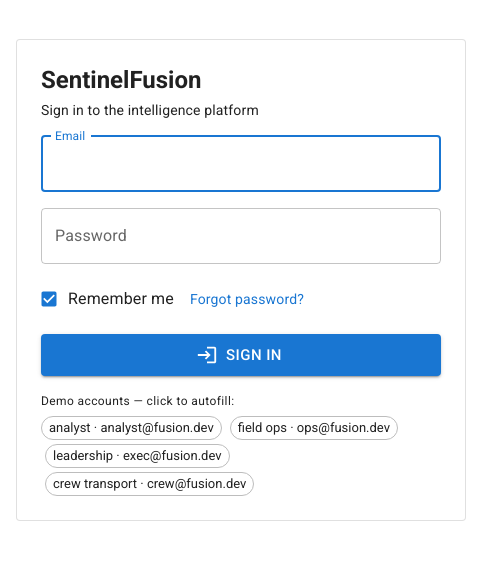
Test: LoginPage › shows validation errors for invalid input
Click the button "Sign in".
click(241, 355)  # box x1=41 y1=334 x2=441 y2=376
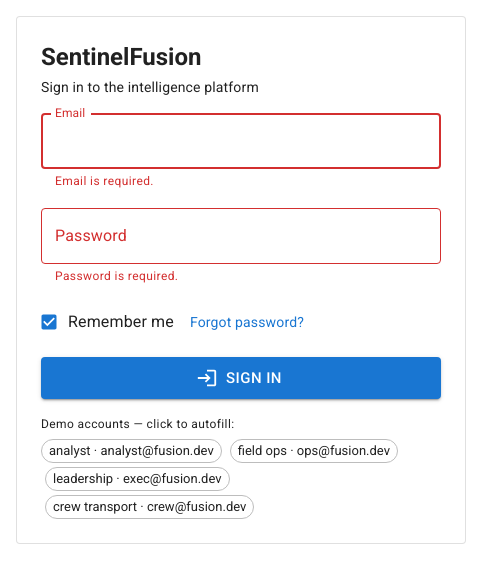
Expected: the text "Email is required." is shown, x1=55 y1=174 x2=154 y2=188
Expected: the text "Password is required." is shown, x1=55 y1=269 x2=178 y2=283
